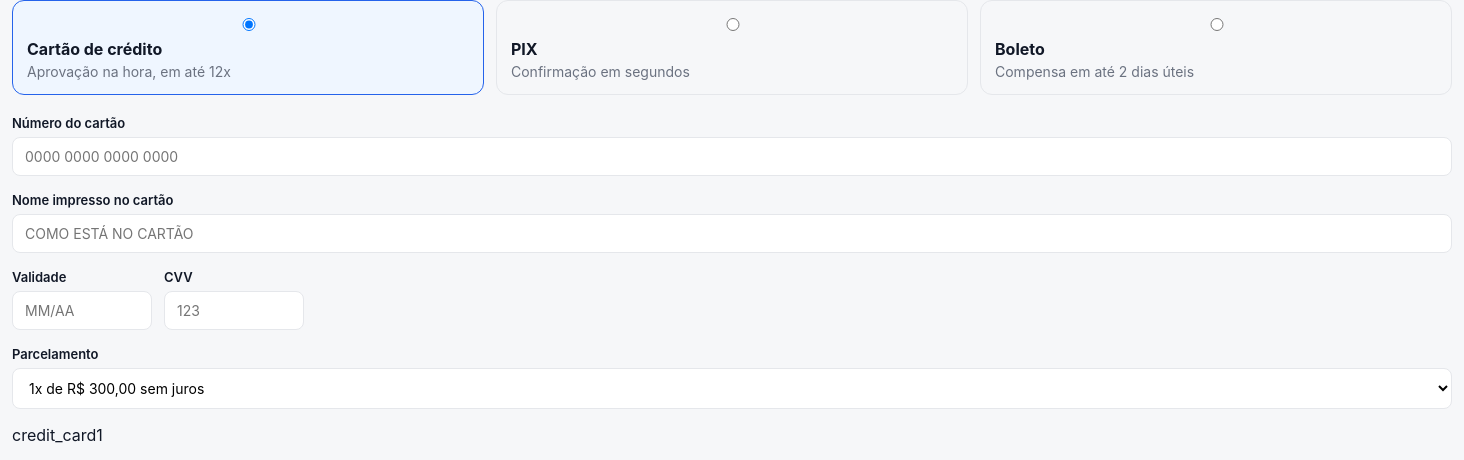
Test: PaymentForm › avisa que boleto não parcela
Click the radio button labelled "Boleto Compensa em até 2 dias úteis": (1217, 24) [1000,18,1434,31]
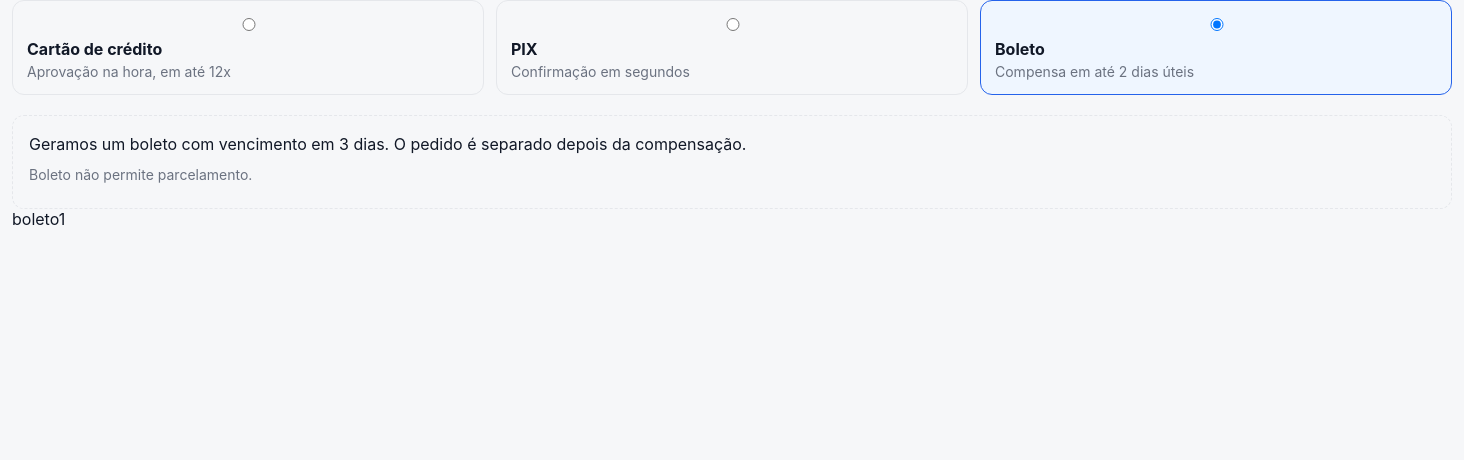
Result: the text "Boleto não permite parcelamento." is shown at [29,166,252,183]
